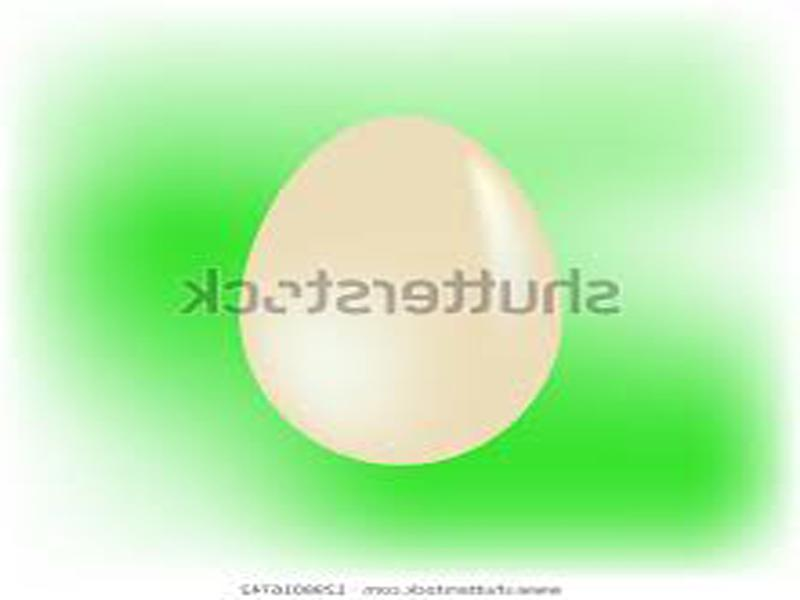Eggs: (238, 116, 560, 463)
